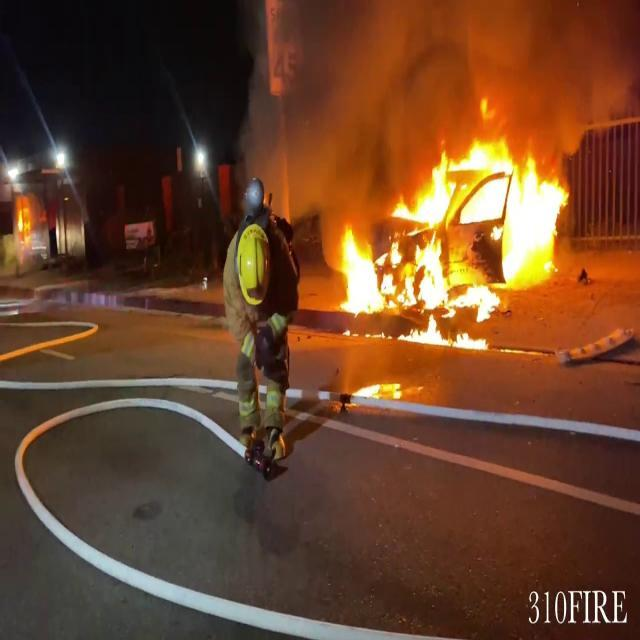Fire: (328, 128, 576, 348)
Smoke: (228, 0, 634, 195)
